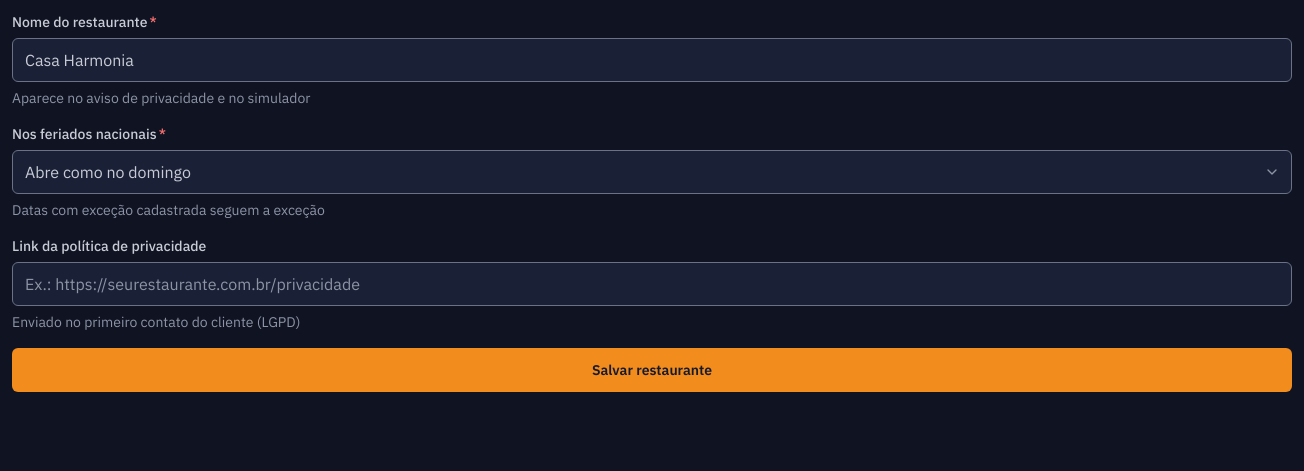
Scenario: RestauranteForm › ação que lança vira erro geral em português
Click the button "Salvar restaurante": coordinates (652, 370) [12,348,1292,392]
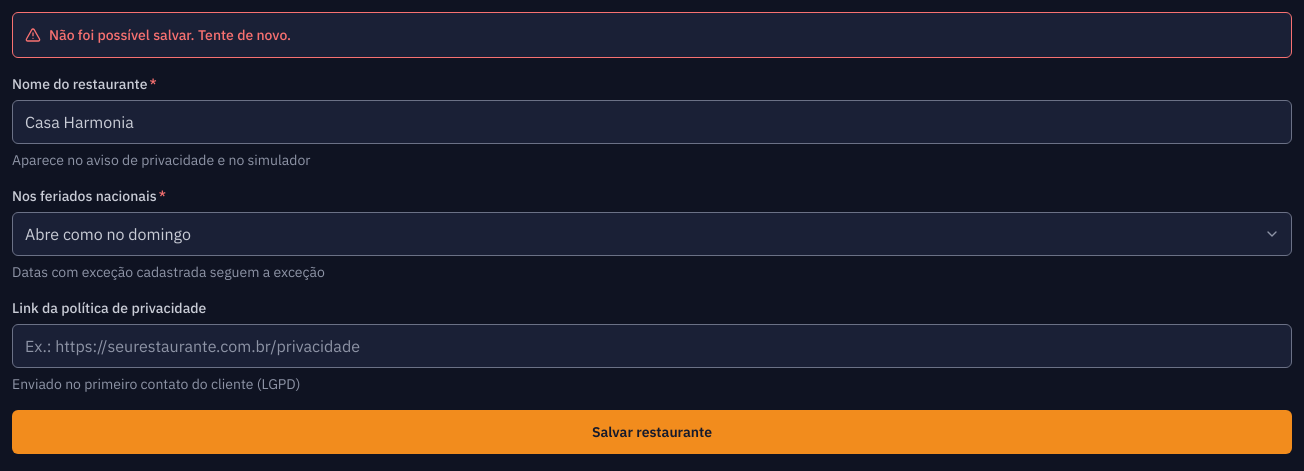
Now the message reads "Não foi possível salvar. Tente de novo.", box [49,26,291,44]
